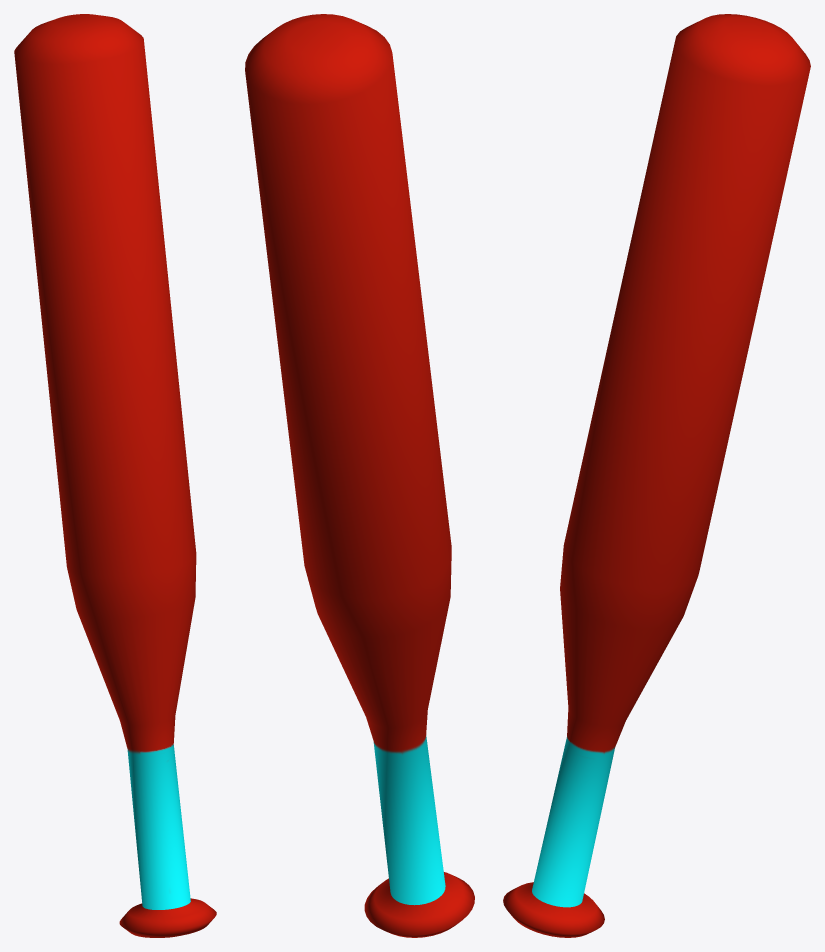
Rendered from Bat2.fbx.
3 renders of one model, left to right at view 1: azimuth 30°, elevation 25°; view 2: azimuth 150°, elevation 25°; view 3: azimuth 270°, elevation 25°, orthographic. The views are drawn at different scales.
Visible parts, largest first — view 1: Cylinder; view 2: Cylinder; view 3: Cylinder.
Boxes of the visible parts, x1,y1,x2,y2 form: Cylinder: (14,14,216,937); Cylinder: (245,14,474,937); Cylinder: (503,14,810,937).
Size of the model in its own units: 20 by 144 by 44.39.
1 material, 1 textured.
